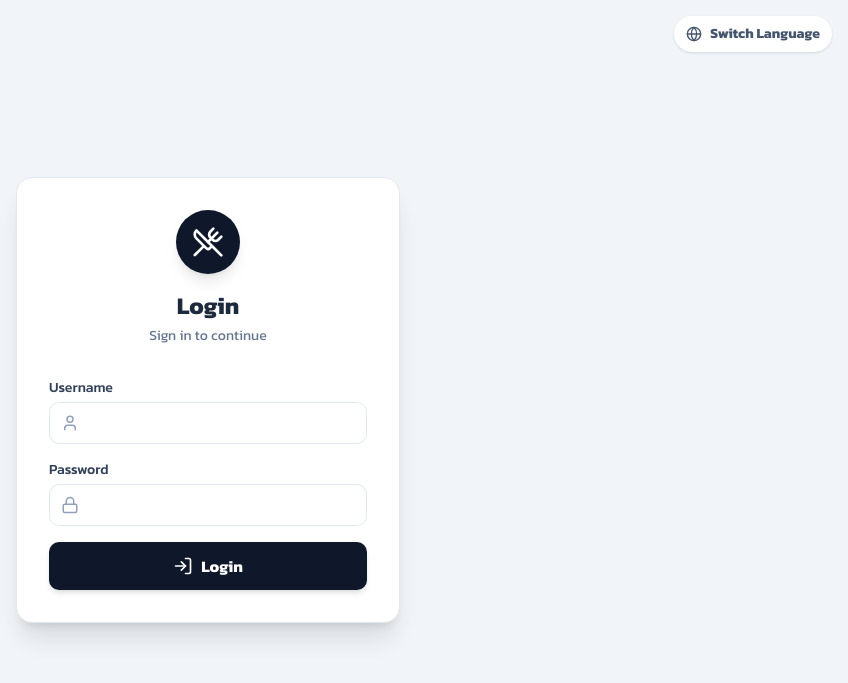
Test case: LoginForm › Login Failure - Error Handling › should display error message on login failure
This screenshot has width=848, height=683.
Type "wronguser" into the field labelled "Username" at point(208, 423), box [49, 402, 367, 444]
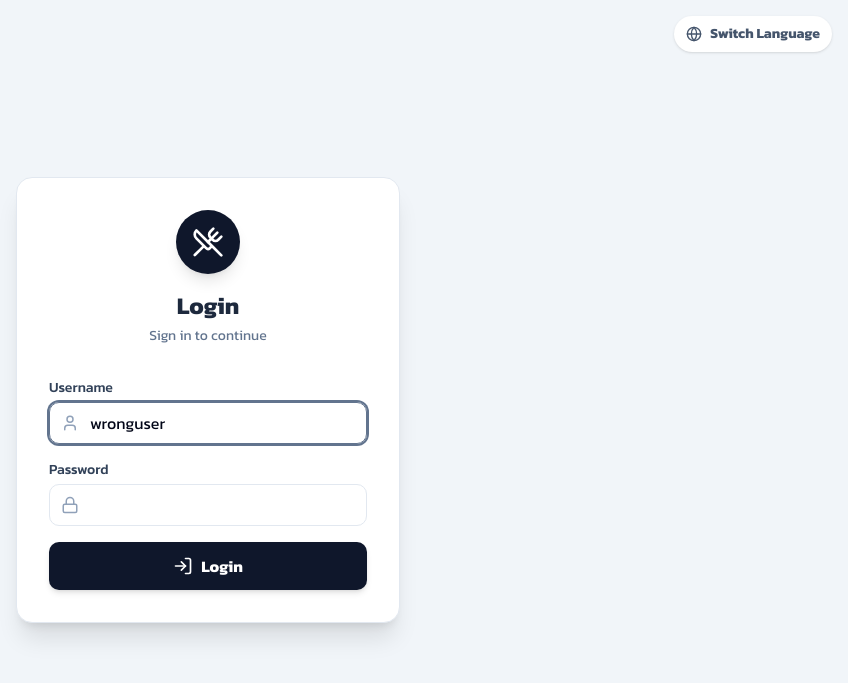
Type "wrongpass" into the password field labelled "Password" at point(208, 505), box [49, 484, 367, 526]
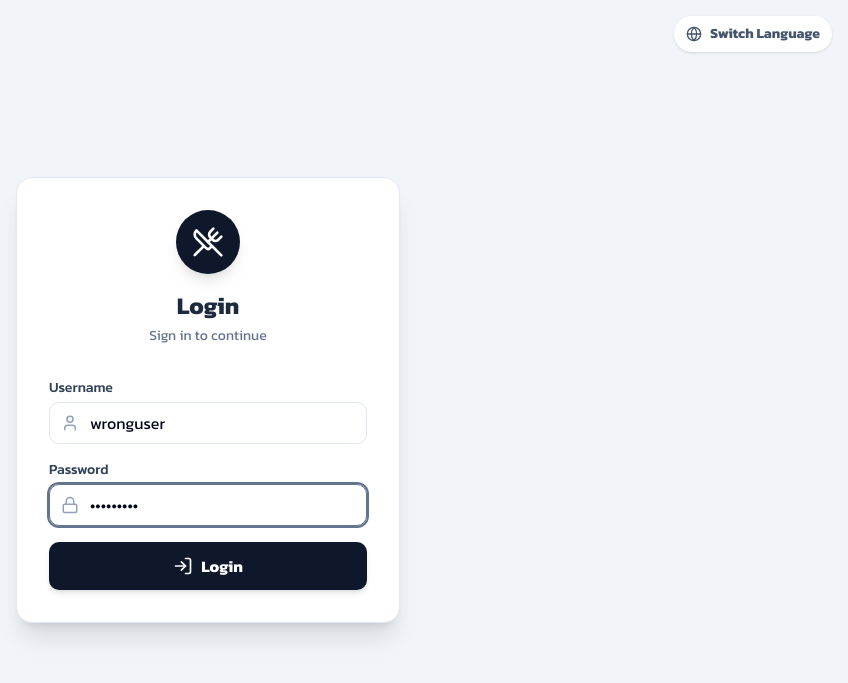
Click the button "Login" at point(208, 566), box [49, 542, 367, 590]
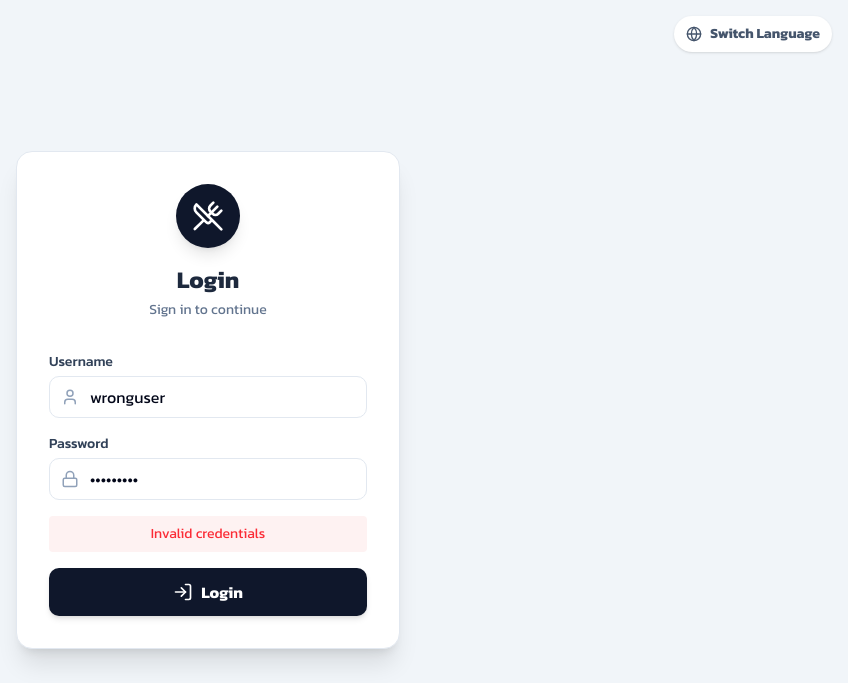
Expected: the text "Invalid credentials" is shown, [49, 516, 367, 552]
